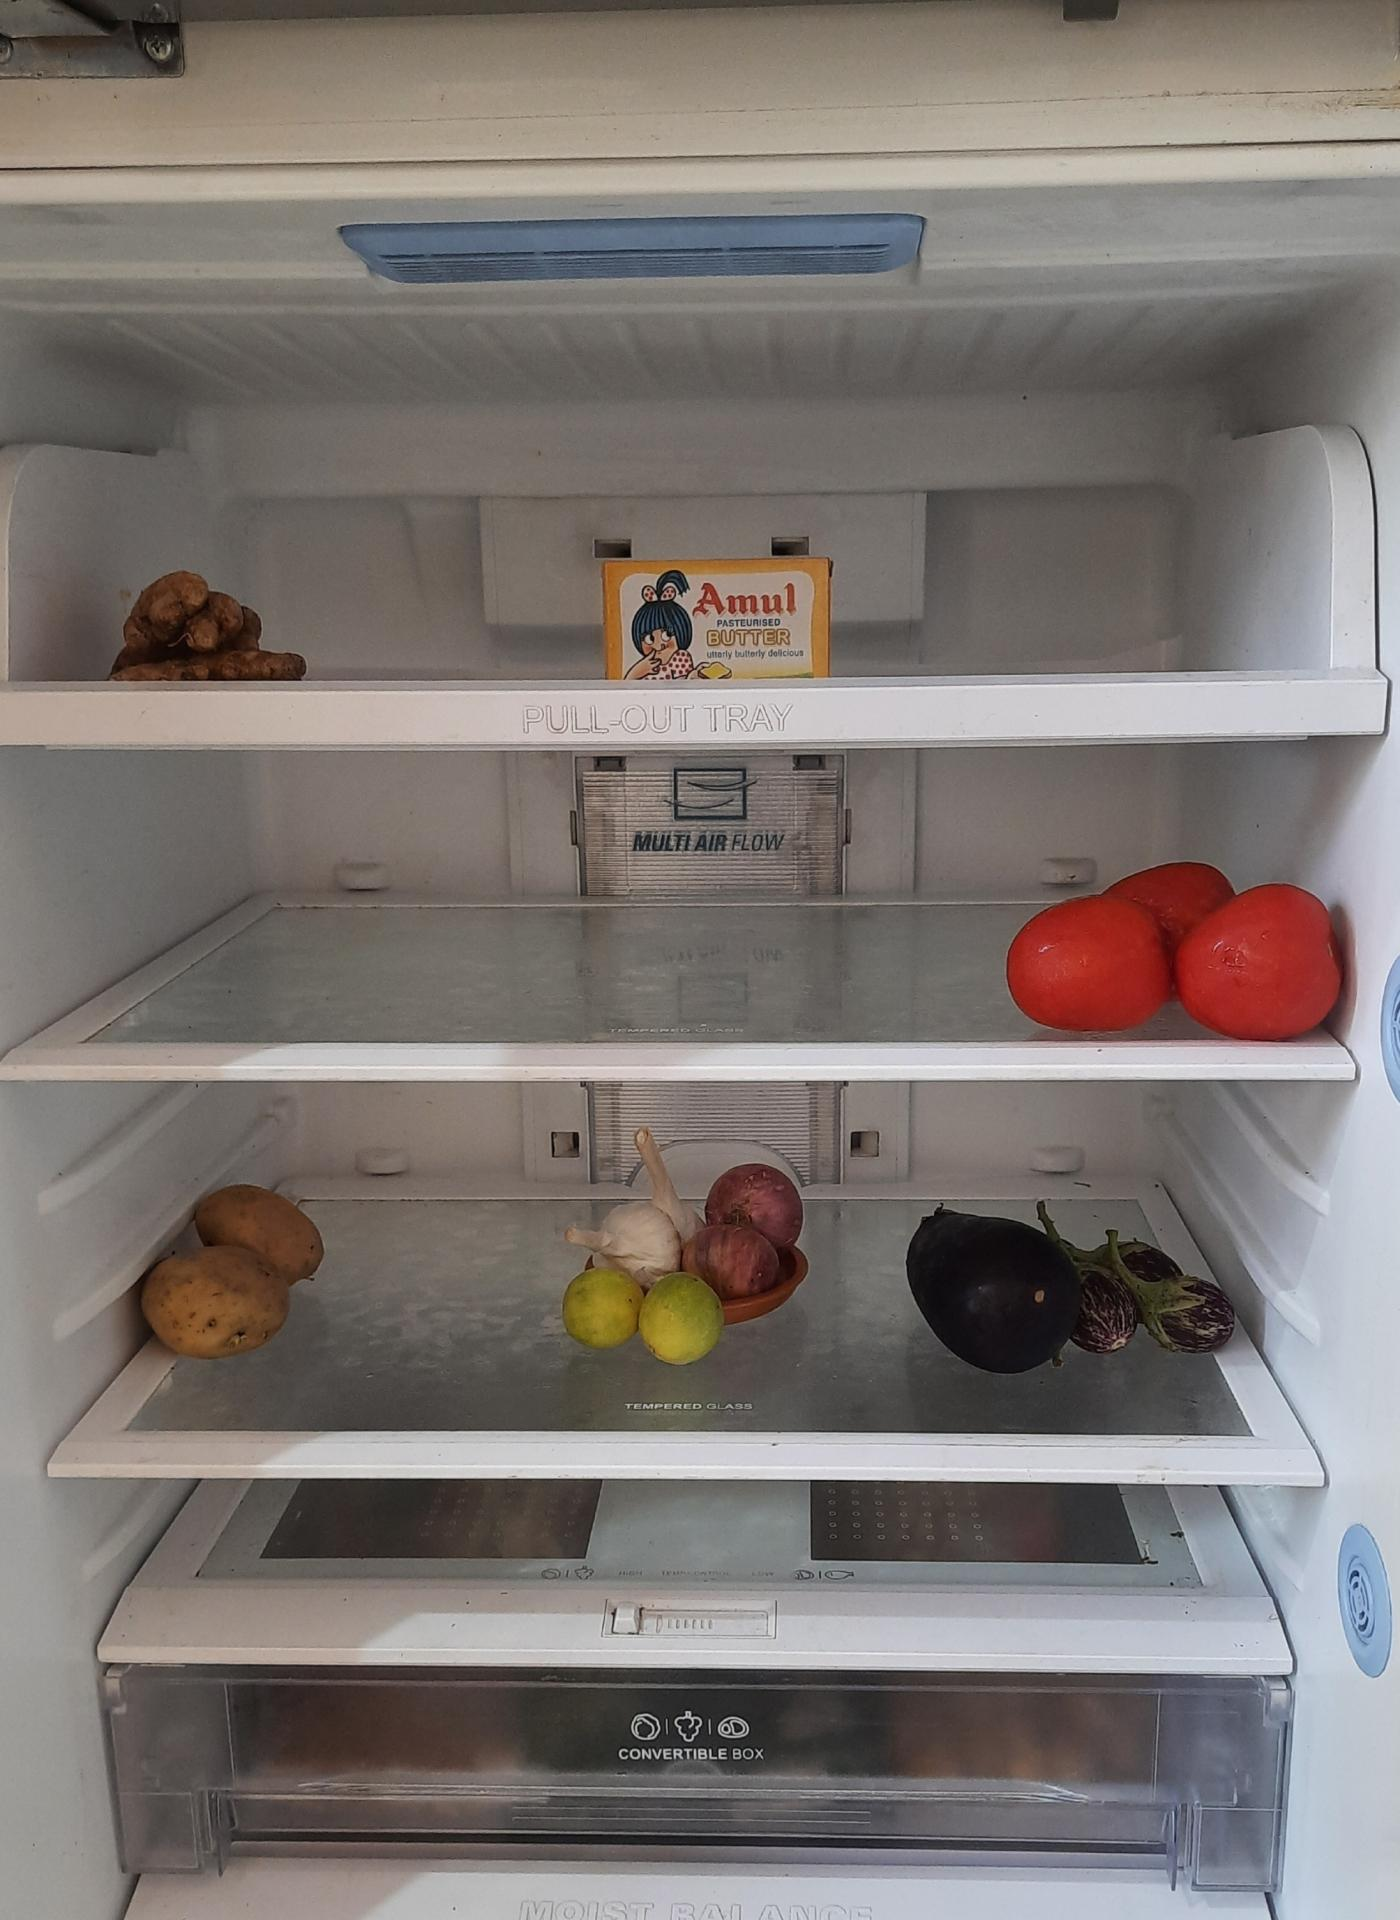brinjal: (904, 1188, 1239, 1370)
butter: (593, 550, 841, 690)
garlic: (578, 1122, 707, 1286)
ginger: (106, 566, 309, 683)
lemon: (561, 1255, 717, 1361)
onion: (699, 1158, 811, 1313)
potato: (122, 1170, 315, 1395)
tomato: (1008, 860, 1349, 1045)
